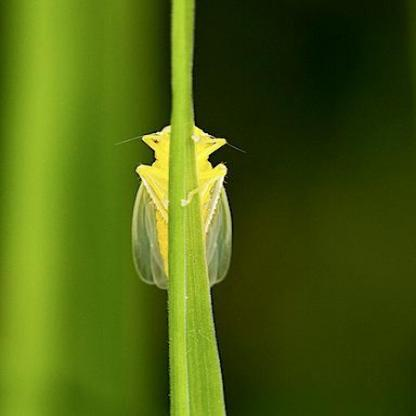Green-Leafhopper: (122, 110, 253, 294)
